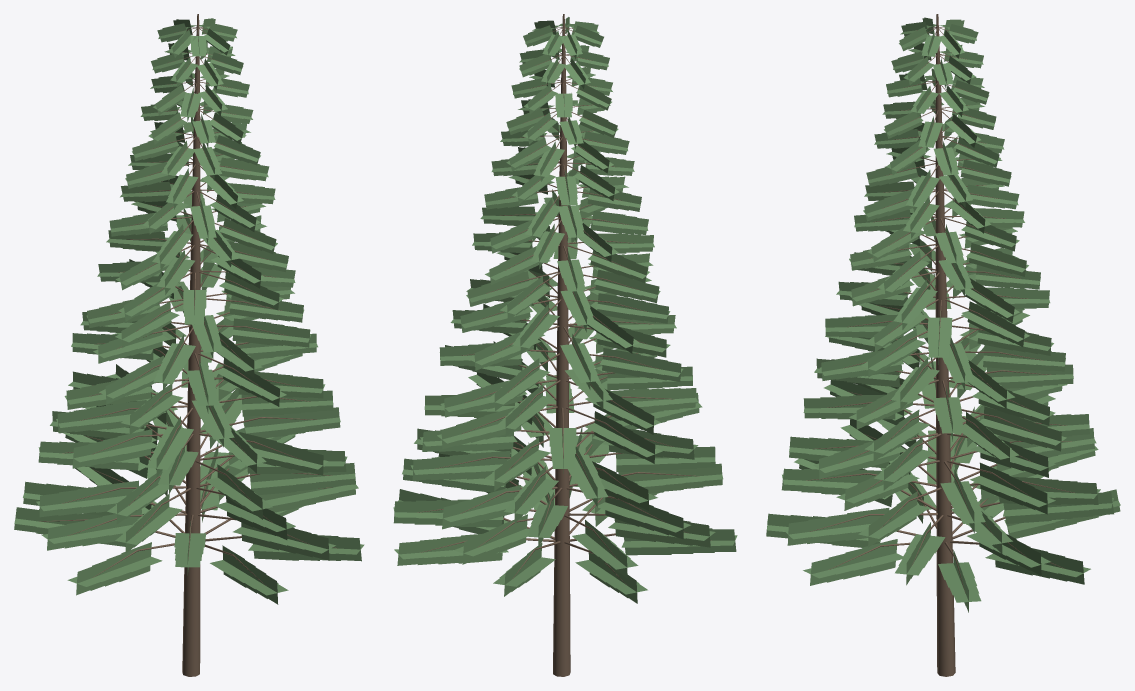
The model's file is spruce3d.glb.
The picture shows the model from 3 angles, left to right: view 1: azimuth 30°, elevation 25°; view 2: azimuth 150°, elevation 25°; view 3: azimuth 270°, elevation 25°; orthographic projection.
Visible parts, largest first — view 1: leaves, trunk; view 2: leaves, trunk; view 3: leaves, trunk.
Part boxes in pixels (x1,y1,x2,y2): leaves: (14,18,364,604); trunk: (39,14,337,676); leaves: (393,17,737,603); trunk: (417,14,711,676); leaves: (766,17,1120,612); trunk: (806,14,1075,676).
Bounding box in the file's own units: 7.19 × 15 × 7.31.
